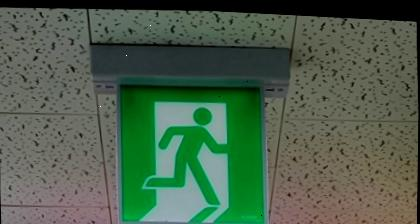emergency_exit: (116, 77, 268, 223)
